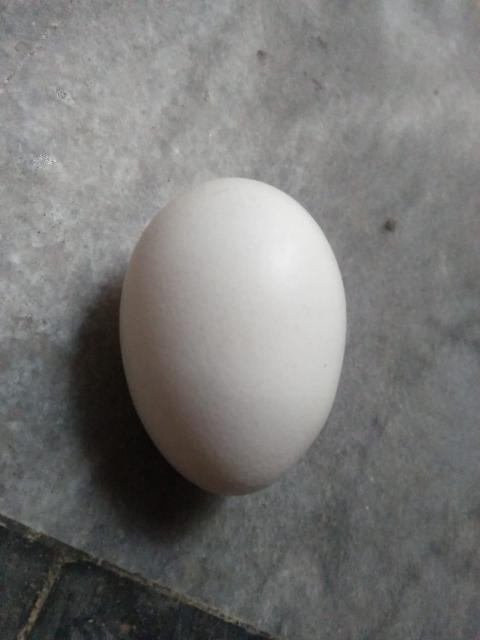Sano: (118, 175, 348, 496)
